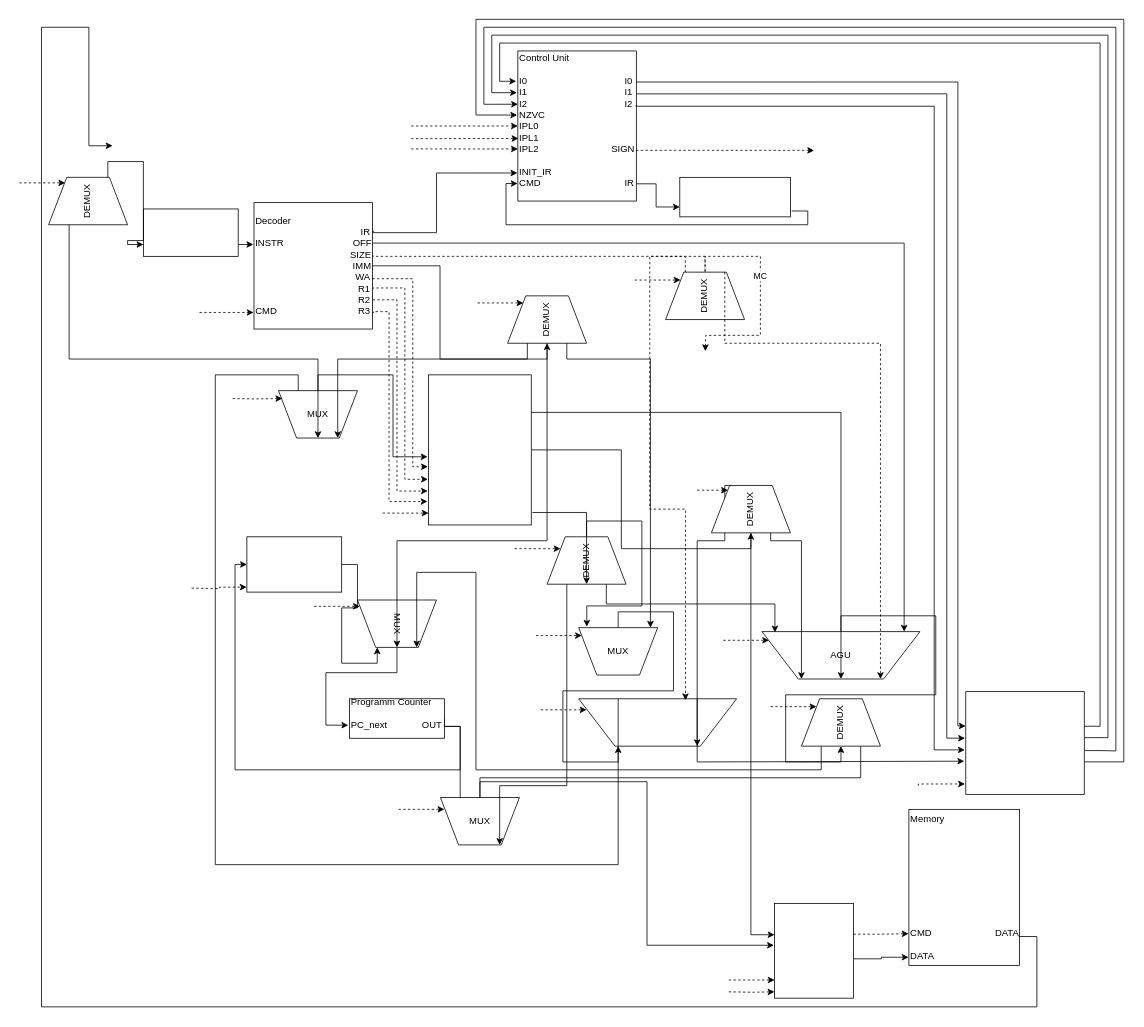
Some shapes in this 1144 by 1027 pixel diagram are drawn without their labels. Each missing label, with the box of its shape:
ALU: (578, 698, 737, 746)
Instruction Register IN OUT: (143, 208, 238, 256)
Memory Control DATA CMD ADDR DATA SIZE CMD: (774, 903, 854, 998)
Microcode Memory IR CMD: (679, 177, 790, 217)
PС Incrementor PC OUT CMD: (246, 536, 342, 592)
Register File A0- A7 OUTi D0- D7 IN OUT2 WA R1 R2 R3 CMD OUT1: (428, 374, 531, 525)
Status Register I0 I0 I1 I1 I2 I2 NZVC NZVC CMD: (965, 691, 1084, 794)
